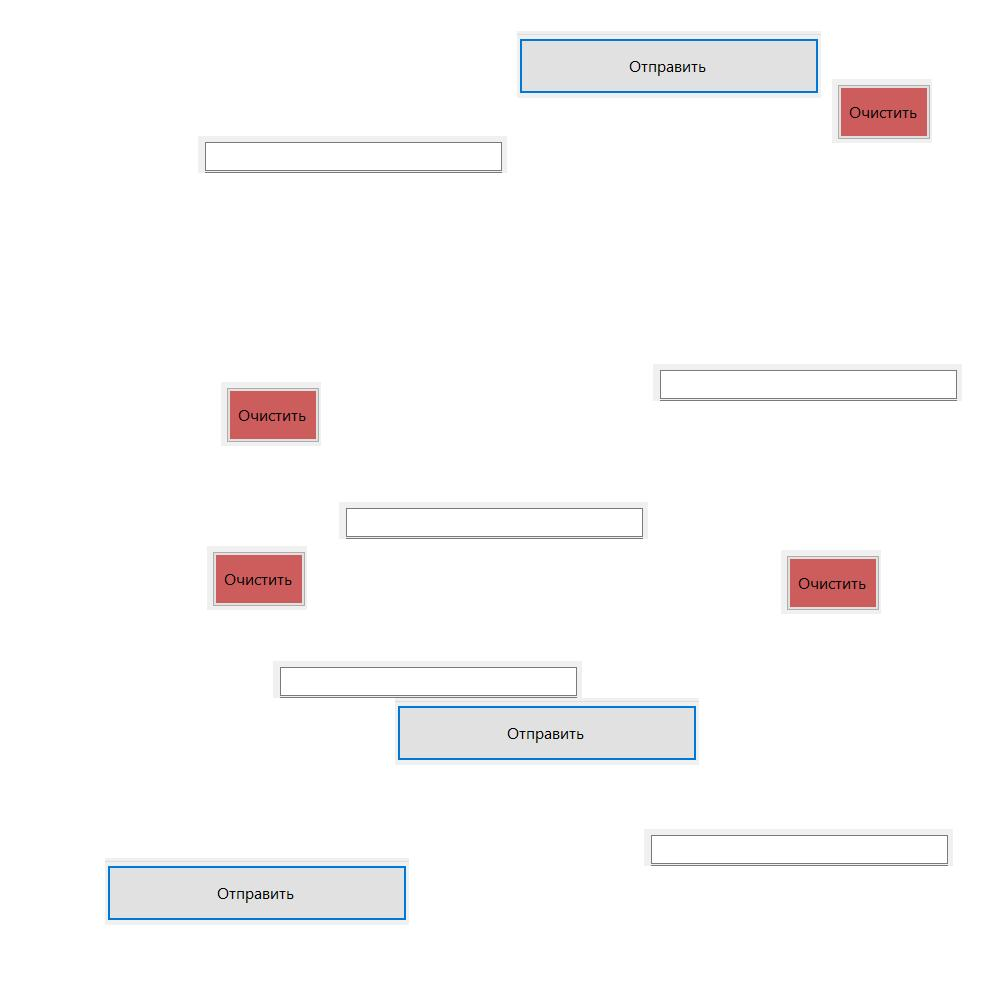Button: (517, 31, 821, 98), (105, 858, 409, 925), (395, 698, 699, 765), (781, 550, 881, 614), (832, 79, 932, 143), (207, 546, 307, 610), (221, 382, 321, 446)
EditText-: (644, 829, 953, 866), (273, 661, 582, 698), (339, 502, 648, 539), (653, 364, 962, 401), (198, 136, 507, 173)
